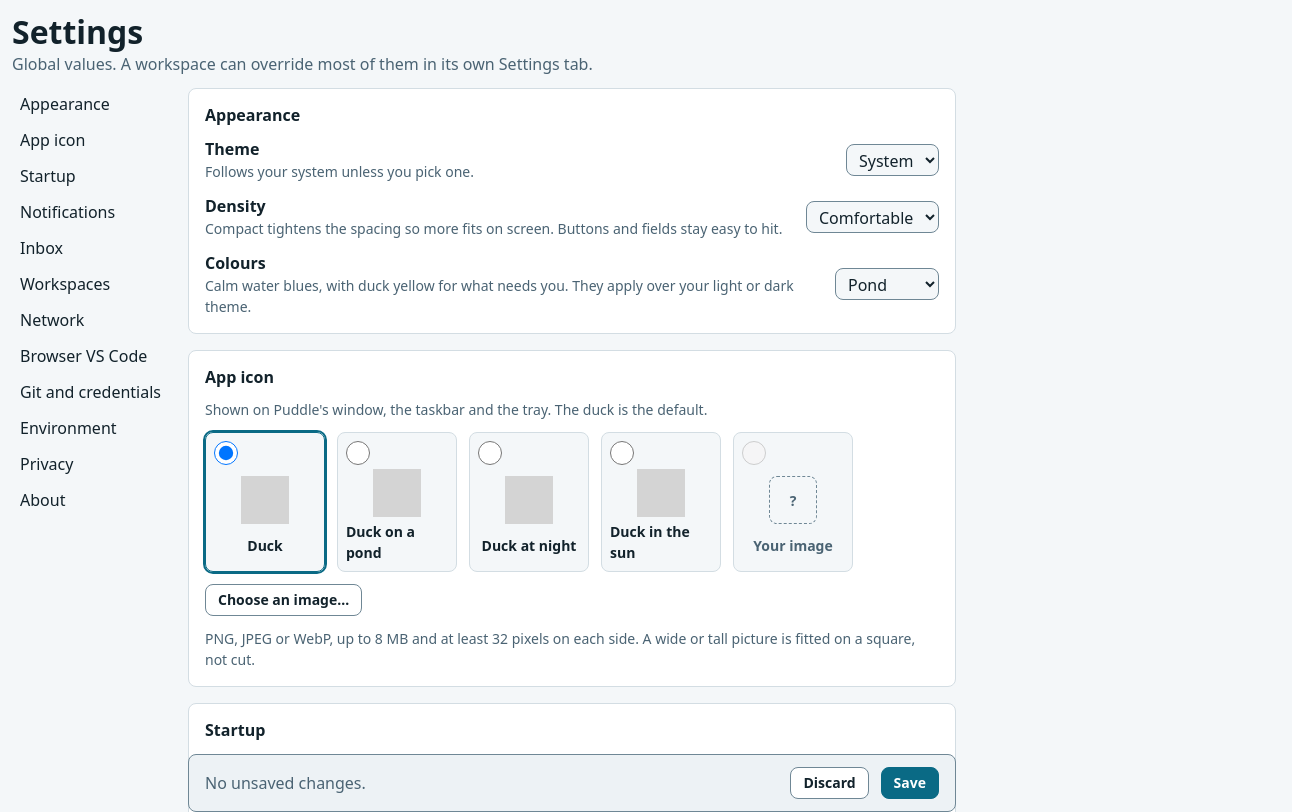
Test: the App icon section › holds the choice until Save, then stores it
Expected: the heading "App icon" is shown, [205,366,274,388]
Expected: the radio button labelled "Duck on a pond" is shown, [346,441,370,465]
Click the radio button labelled "Duck at night".
click(490, 453)  # box [478,441,502,465]
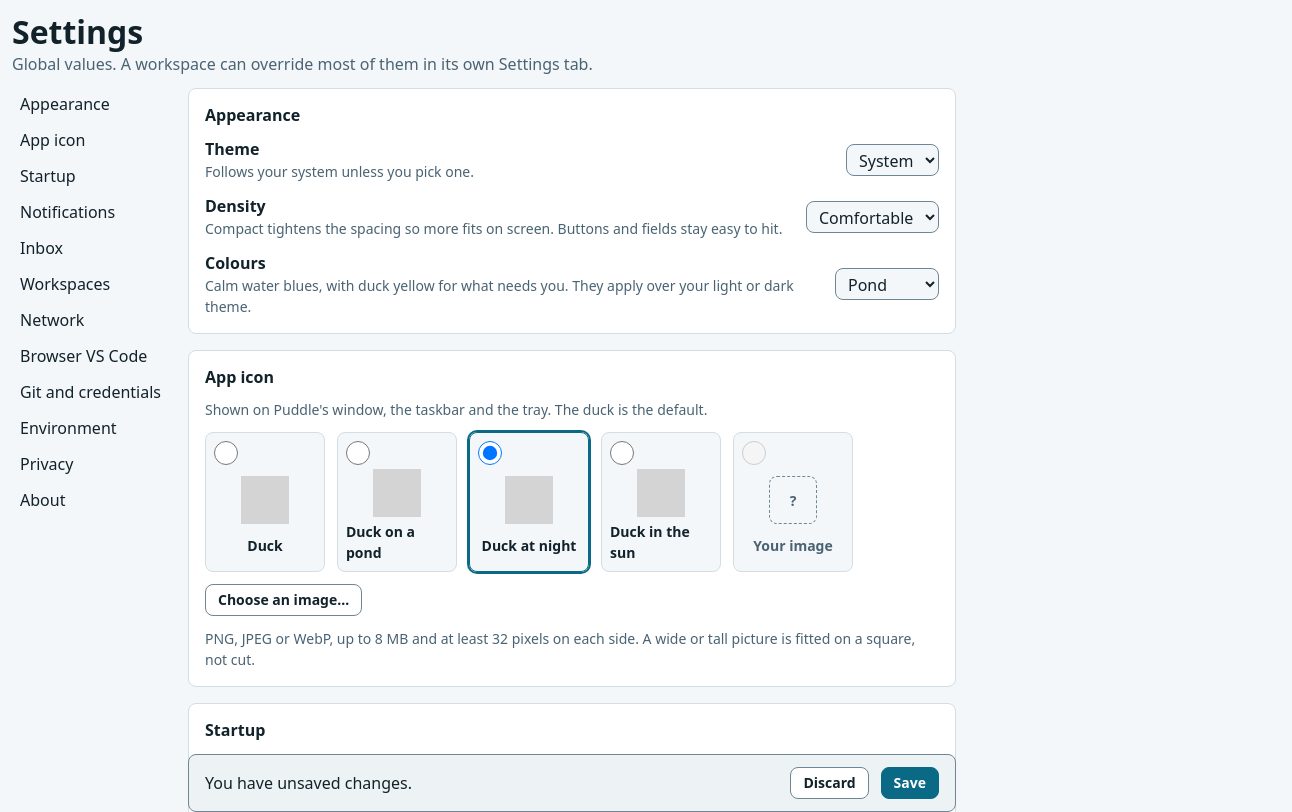
Now the radio button labelled "Duck at night" is checked, box [478,441,502,465]
Click the button "Save".
click(910, 783)  # box [881,767,939,799]
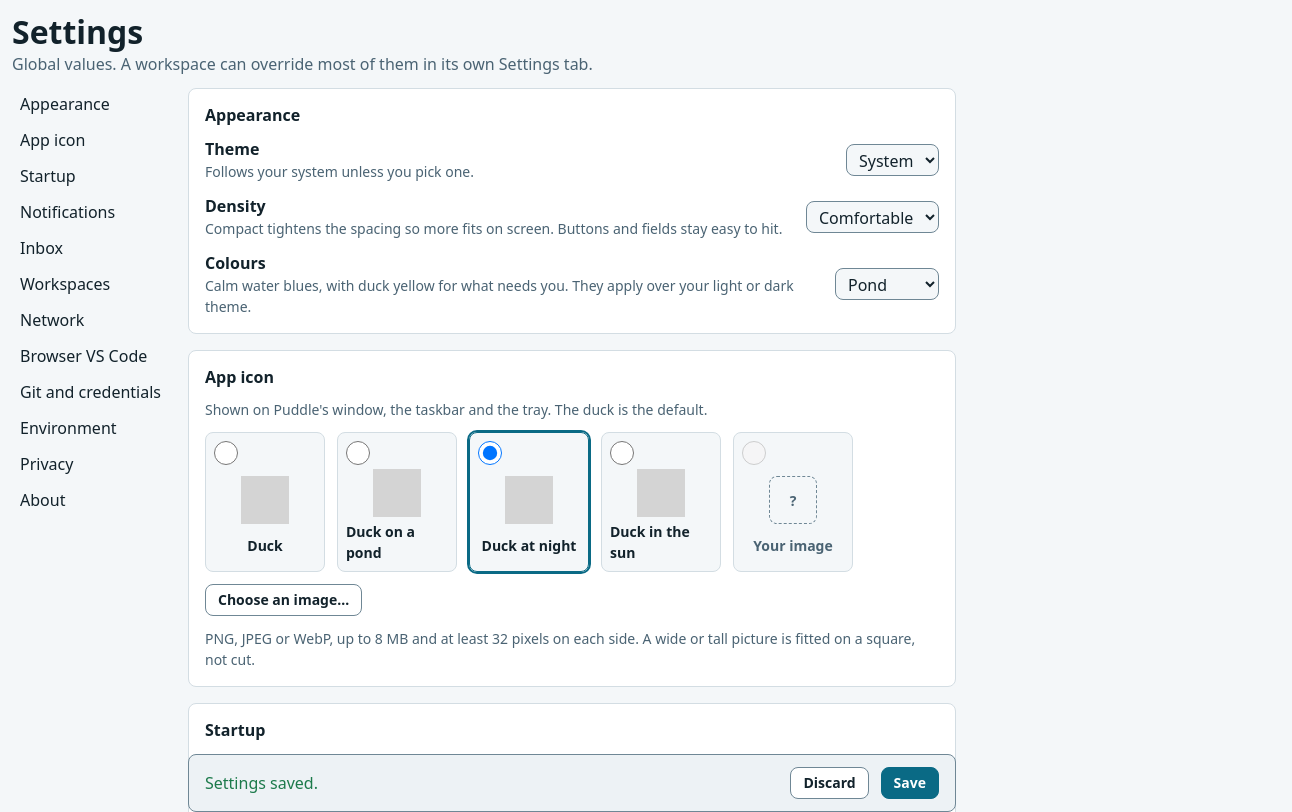
Now the text "Settings saved." is shown, box [205,772,318,794]
